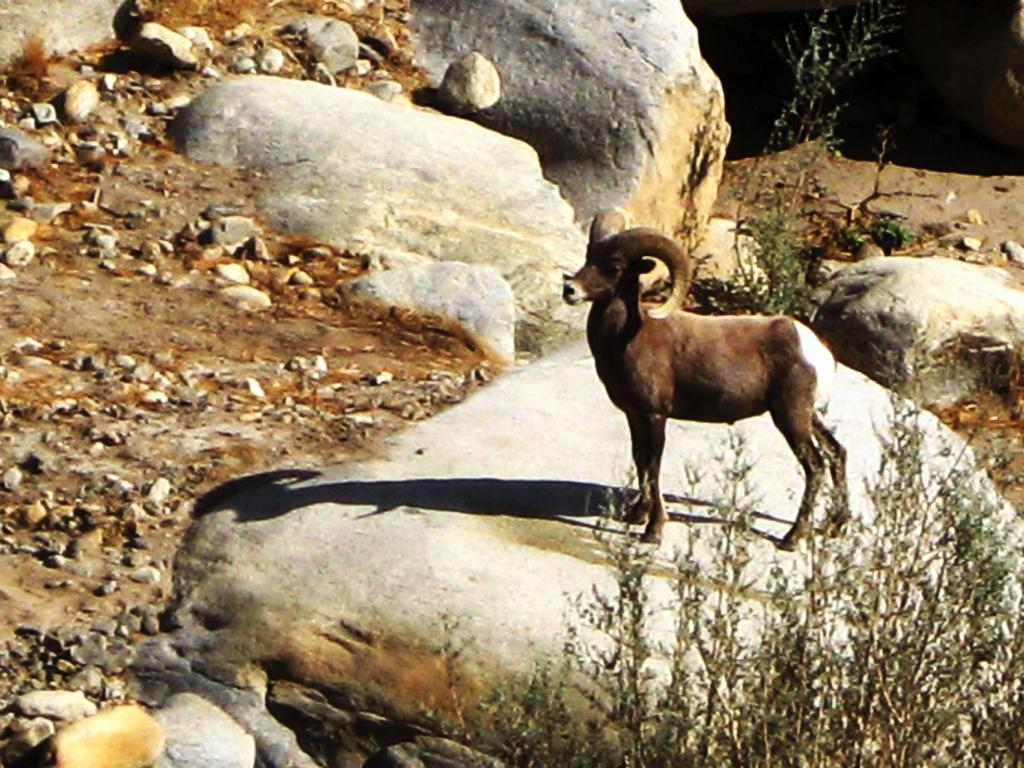Sheep: (562, 206, 852, 552)
